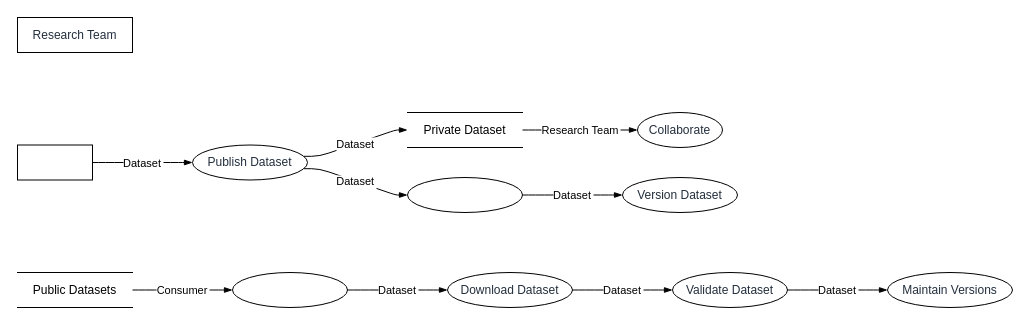
The diagram is 1030 pixels wide and 325 high, and some of its shapes have lost their labels. Here are the shapes that lost their labels. From the top down, the box of each, then its label:
(16, 144, 92, 180): Publisher
(406, 176, 522, 212): Update Dataset
(232, 272, 348, 308): Browse Datasets
